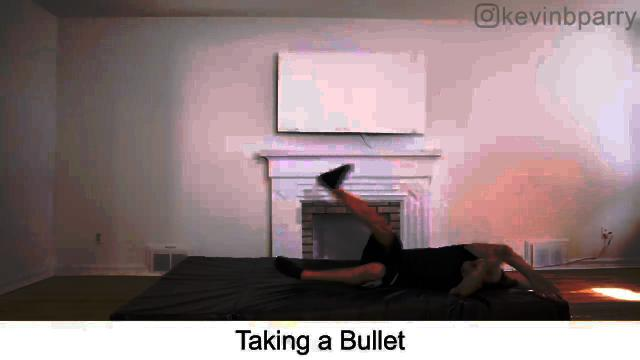jatuh: (258, 154, 566, 316)
